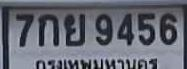4: (117, 12, 134, 46)
5: (137, 12, 156, 46)
6: (159, 12, 178, 46)
7: (15, 13, 34, 48)
9: (95, 13, 113, 46)
A01: (38, 13, 59, 47)
A34: (63, 13, 86, 46)
